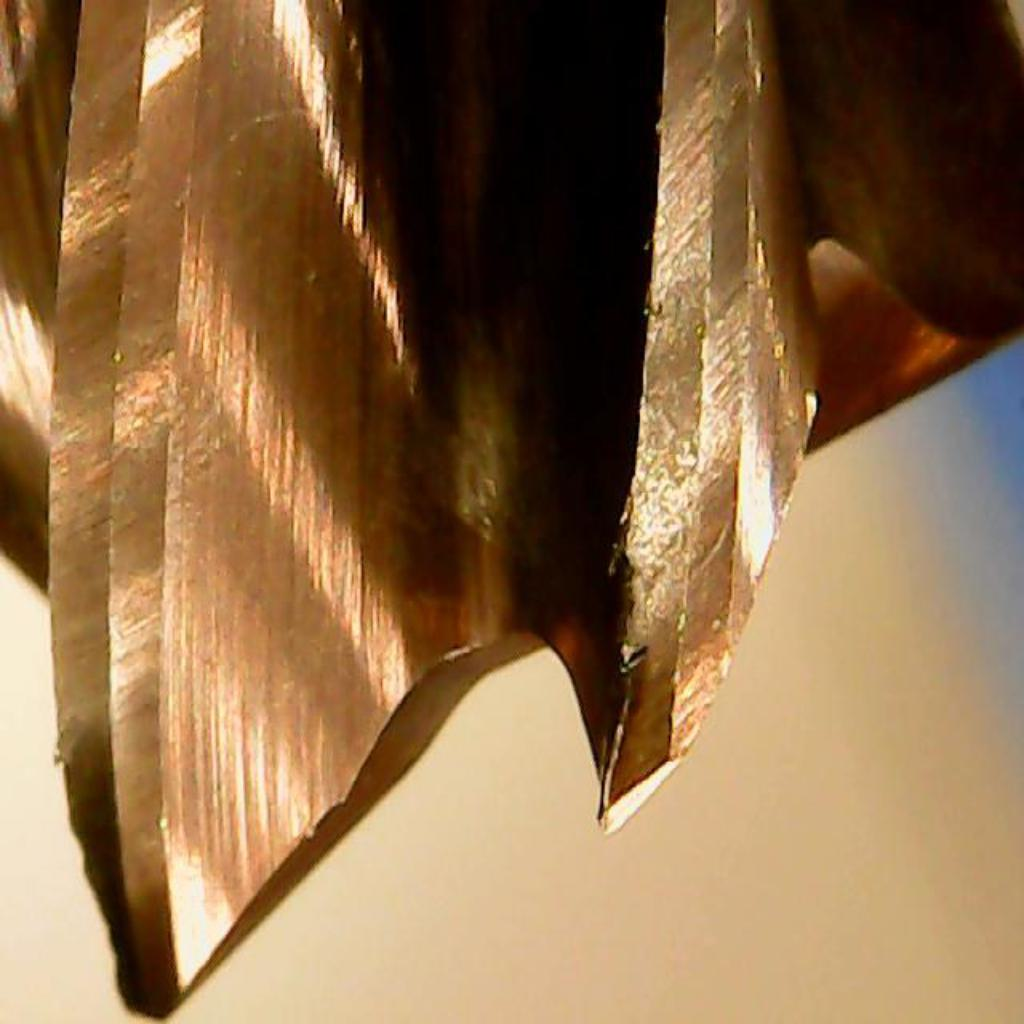Tool-wear-class-1: (536, 393, 792, 850)
